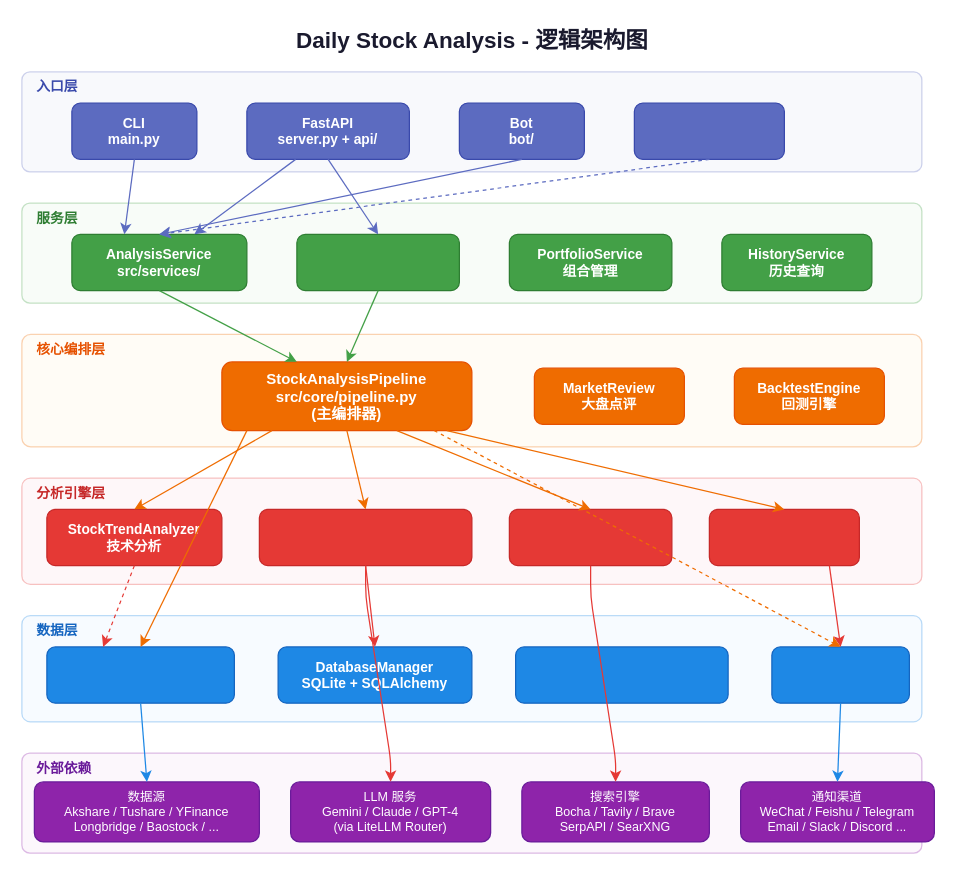
The diagram is 956 pixels wide and 875 high, and some of its shapes have lost their labels. Here are the shapes that lost their labels. From the top down, the box of each, then its label:
(633, 102, 784, 159): Scheduler GitHub Actions
(296, 233, 459, 291): TaskQueue 异步任务管理
(258, 508, 472, 566): GeminiAnalyzer AI 综合分析 (LiteLLM)
(508, 508, 672, 566): SearchService 新闻情报
(708, 508, 859, 566): Formatters 报告格式化
(46, 646, 234, 703): DataFetcherManager 多源数据策略
(514, 646, 728, 703): Repositories stock / analysis / portfolio
(771, 646, 909, 703): NotificationService 10+ 渠道推送
